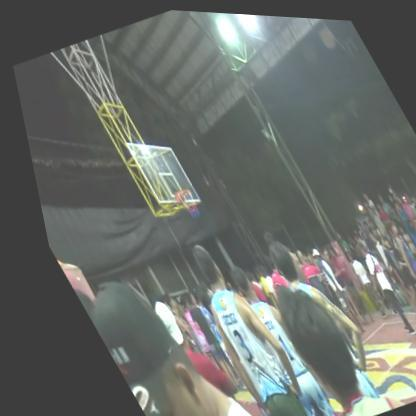rim: (160, 176, 198, 221)
